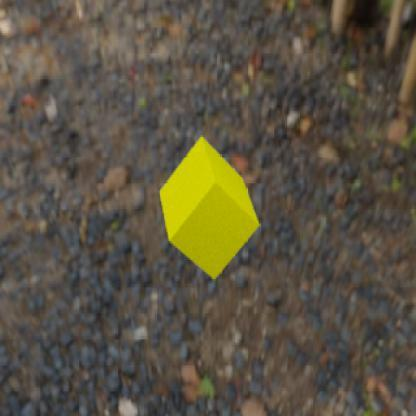yellow_cube: (158, 135, 258, 279)
